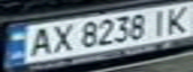2: (97, 16, 118, 47)
3: (115, 12, 133, 44)
8: (75, 18, 100, 50), (127, 10, 151, 40)
A: (21, 25, 57, 58)
I: (145, 7, 172, 37)
K: (160, 2, 193, 34)
X: (45, 21, 78, 55)
